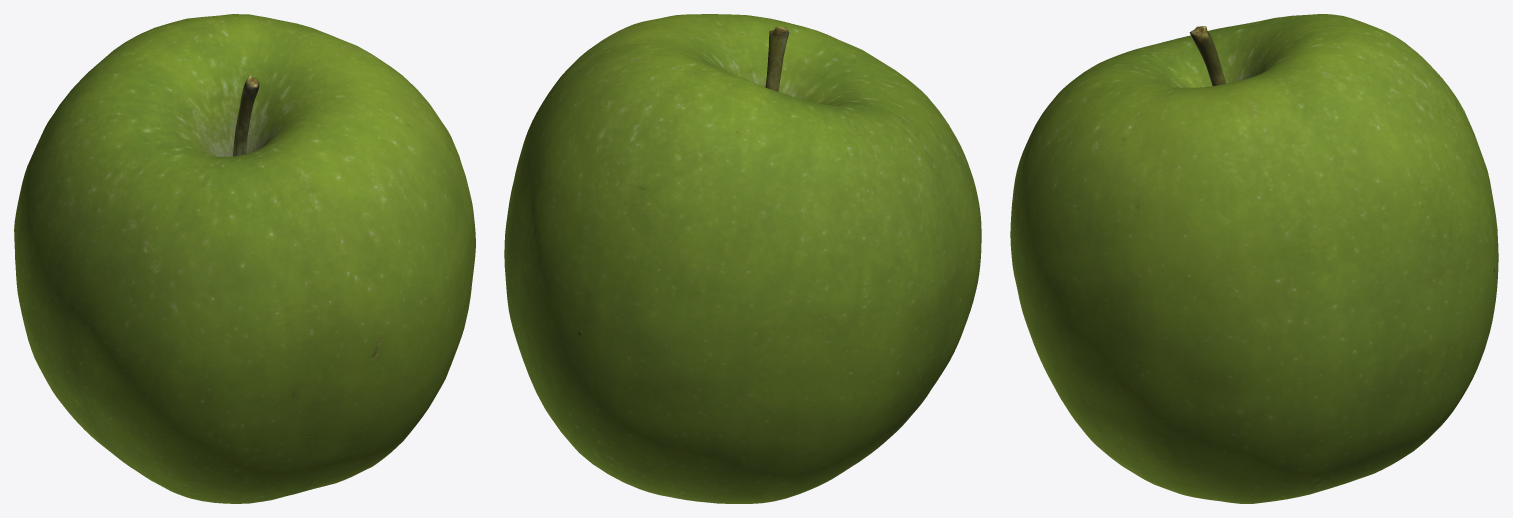
File: greenapple.gltf
The picture shows the model from 3 angles, left to right: view 1: azimuth 30°, elevation 25°; view 2: azimuth 150°, elevation 25°; view 3: azimuth 270°, elevation 25°; orthographic projection. The views are drawn at different scales.
Visible parts, largest first — view 1: apple02; view 2: apple02; view 3: apple02.
Part boxes in pixels (x1,y1,x2,y2): apple02: [14, 14, 475, 503]; apple02: [504, 14, 981, 503]; apple02: [1010, 14, 1498, 503].
Bounding box in the file's own units: 7.42 × 7.3 × 7.63.
1 material, 1 textured.
